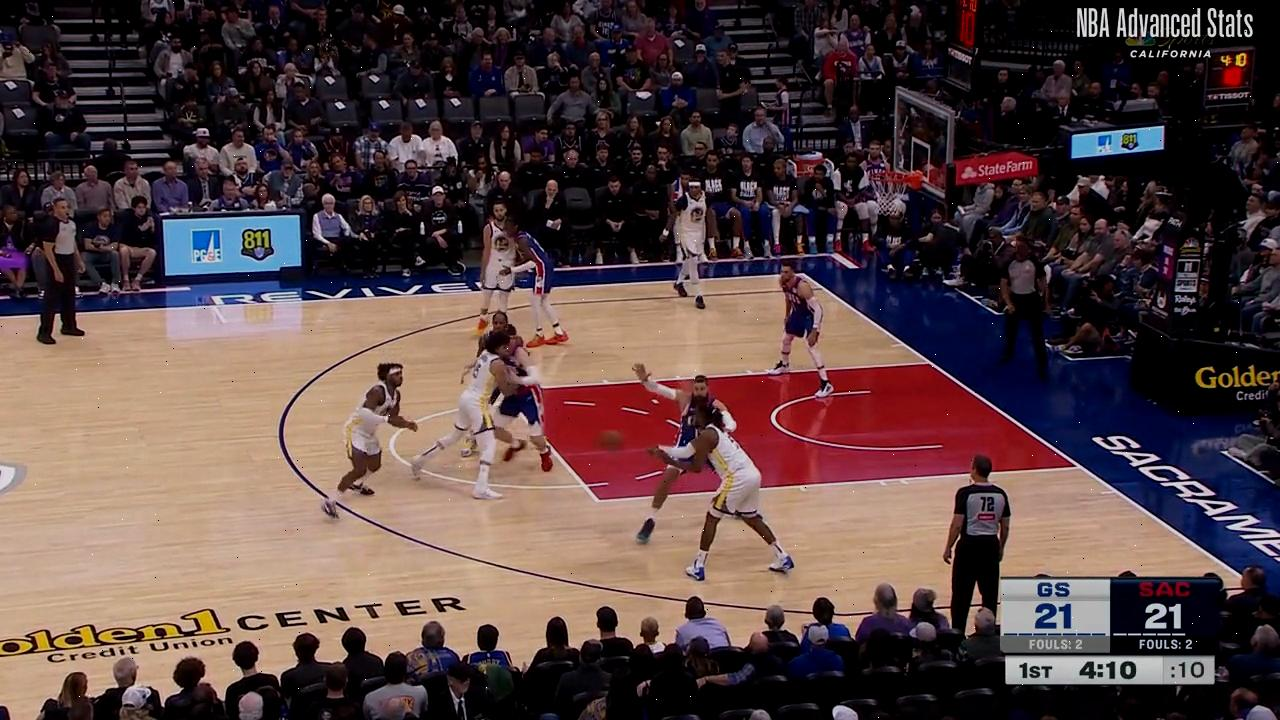basketball: (596, 429, 620, 453)
